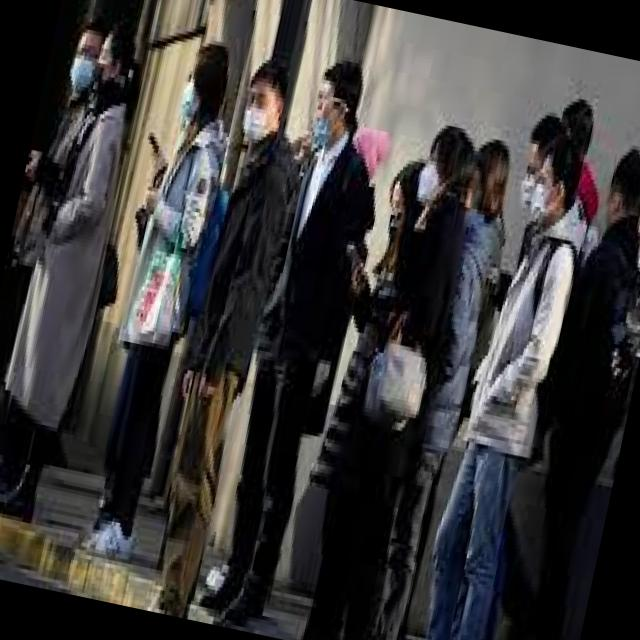Jacket: (0, 91, 142, 447), (300, 229, 438, 519), (456, 209, 588, 481), (106, 118, 238, 384), (178, 134, 304, 402), (530, 211, 640, 507), (394, 196, 514, 467), (257, 142, 385, 388)
